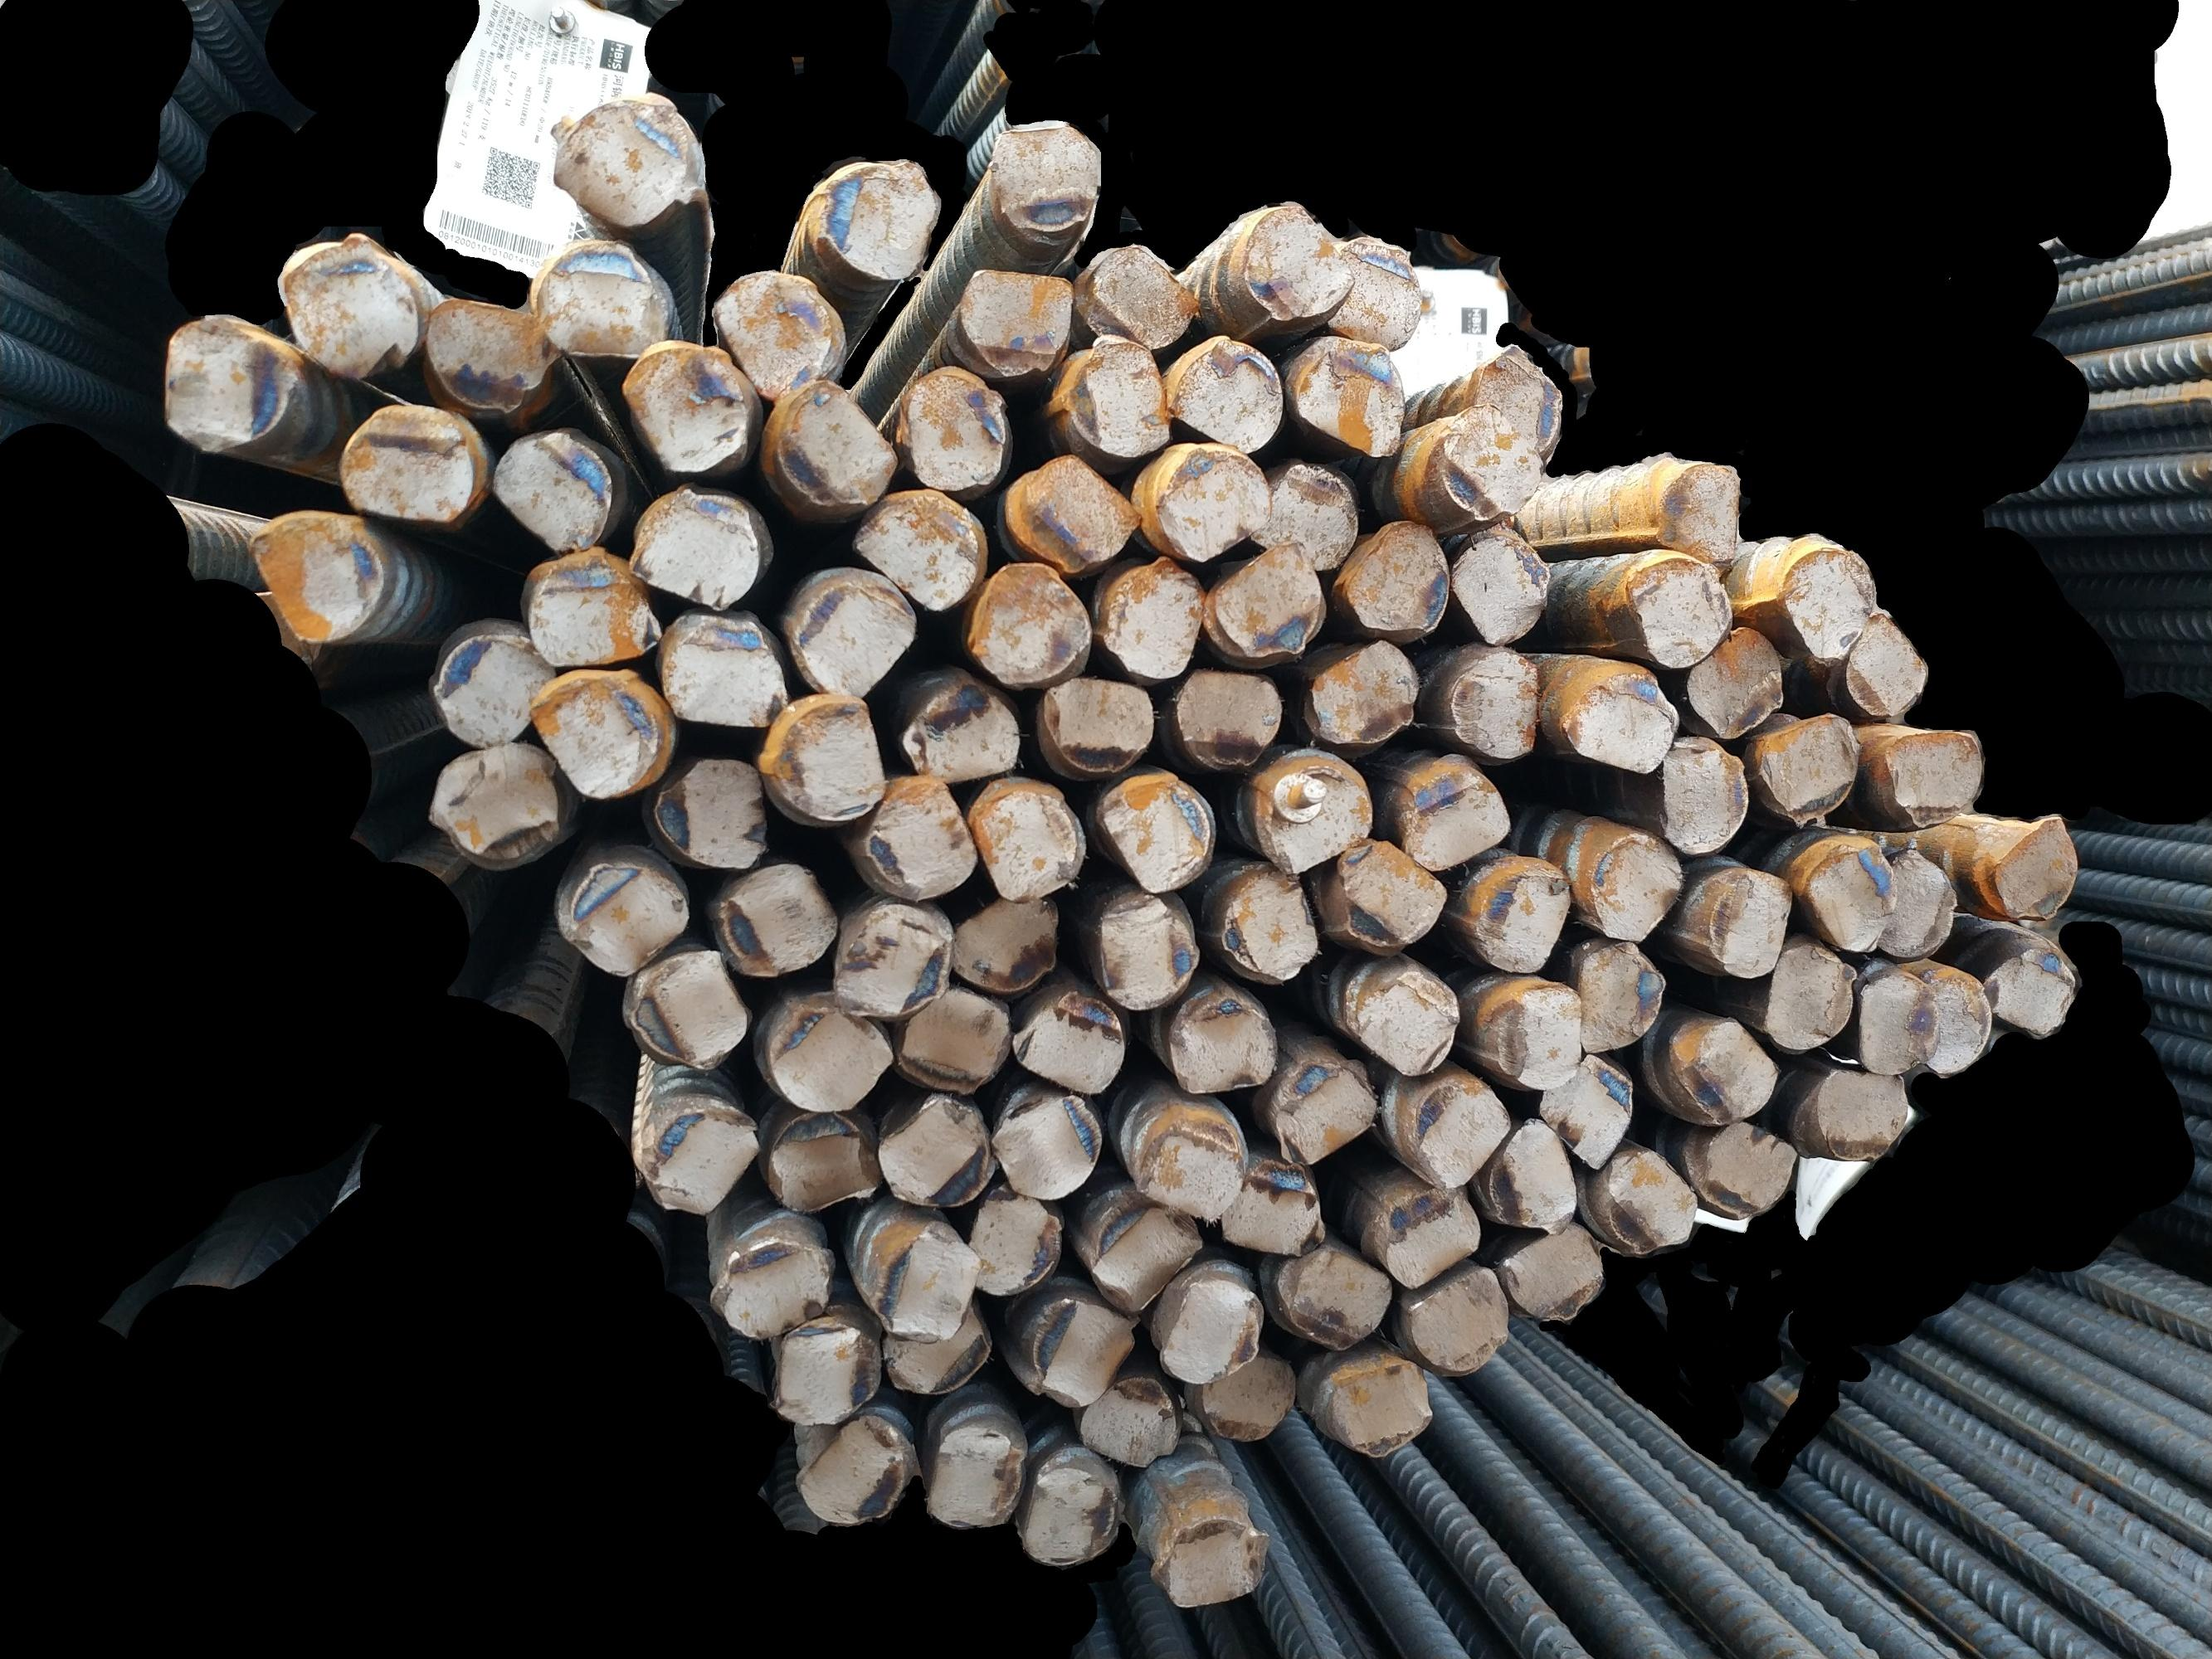bar: (267, 234, 422, 385), (542, 94, 713, 230), (148, 312, 298, 455), (995, 446, 1147, 584), (329, 404, 486, 528), (248, 519, 397, 648), (521, 239, 676, 362), (619, 338, 753, 481), (772, 572, 919, 701), (523, 666, 659, 803), (769, 375, 903, 514), (750, 697, 896, 824), (415, 289, 560, 416), (425, 739, 563, 871), (622, 484, 763, 613), (962, 552, 1095, 688), (758, 988, 896, 1119), (844, 484, 983, 613), (708, 267, 838, 403), (521, 551, 666, 671), (488, 420, 615, 554), (708, 857, 842, 983), (1140, 441, 1274, 566), (619, 945, 750, 1072), (429, 627, 563, 751), (654, 612, 795, 728), (816, 153, 940, 284), (558, 859, 692, 979), (985, 117, 1103, 253), (1089, 882, 1206, 1019), (1236, 197, 1360, 324), (1018, 1290, 1147, 1412), (1210, 530, 1327, 664), (830, 892, 952, 1019), (1292, 331, 1408, 464), (1091, 770, 1213, 896), (896, 362, 1011, 495), (983, 1080, 1105, 1204), (1128, 1103, 1250, 1227), (1081, 1199, 1208, 1317), (1252, 756, 1379, 875), (859, 772, 976, 901), (1170, 329, 1286, 457), (1325, 835, 1454, 950), (884, 986, 1016, 1098), (875, 1089, 995, 1211), (1337, 514, 1455, 638), (638, 1100, 763, 1216), (1557, 657, 1682, 774), (1433, 394, 1548, 521), (1769, 535, 1884, 662), (1056, 331, 1171, 457), (1098, 558, 1211, 685), (969, 786, 1089, 904), (1870, 714, 1991, 833), (1616, 551, 1734, 671), (1668, 1007, 1783, 1131), (650, 758, 776, 871), (763, 1316, 891, 1427), (899, 681, 1025, 793), (1752, 706, 1863, 831), (1074, 242, 1201, 352), (788, 1415, 915, 1525), (1250, 450, 1360, 577), (1009, 983, 1128, 1100), (1299, 629, 1419, 744), (1677, 619, 1788, 742), (959, 265, 1077, 380), (1037, 671, 1161, 781), (1271, 1244, 1396, 1352), (1403, 753, 1515, 873), (1471, 331, 1569, 467), (948, 889, 1069, 999), (873, 1222, 983, 1342), (1590, 1138, 1700, 1258), (1154, 1270, 1265, 1387), (762, 1105, 880, 1215), (1452, 521, 1555, 647), (1534, 1047, 1637, 1173), (1323, 228, 1424, 356), (708, 1243, 837, 1342), (1482, 1110, 1581, 1239), (1394, 1265, 1513, 1373), (1408, 1072, 1515, 1192), (1346, 967, 1461, 1077), (1217, 866, 1325, 983), (1754, 938, 1862, 1054), (1149, 1507, 1271, 1610), (1363, 1192, 1487, 1293), (1571, 934, 1670, 1060), (1173, 659, 1283, 772), (924, 1415, 1028, 1534), (1163, 995, 1281, 1098), (1262, 1066, 1381, 1169), (1652, 730, 1750, 854), (960, 1182, 1062, 1300), (1588, 823, 1687, 943), (1797, 842, 1898, 957), (1450, 641, 1544, 763), (1018, 1460, 1121, 1572), (1487, 978, 1588, 1091), (1841, 606, 1933, 728), (1503, 1218, 1605, 1326), (1698, 1114, 1801, 1222), (1320, 1363, 1435, 1459), (1473, 863, 1572, 972), (1072, 1375, 1185, 1471), (1651, 453, 1747, 566), (1851, 964, 1944, 1080), (1705, 864, 1795, 983), (1985, 812, 2083, 922), (880, 1302, 994, 1396), (1213, 1168, 1328, 1260), (1809, 1056, 1909, 1162), (1909, 964, 1996, 1084), (1984, 936, 2083, 1040), (1874, 840, 1959, 960), (1196, 1349, 1299, 1448)
